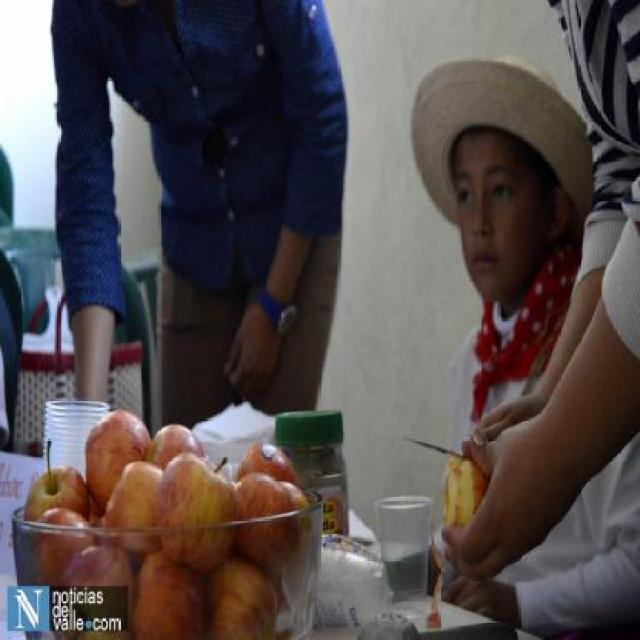Apple pie: (22, 408, 316, 640), (148, 452, 234, 583), (444, 454, 488, 530)
